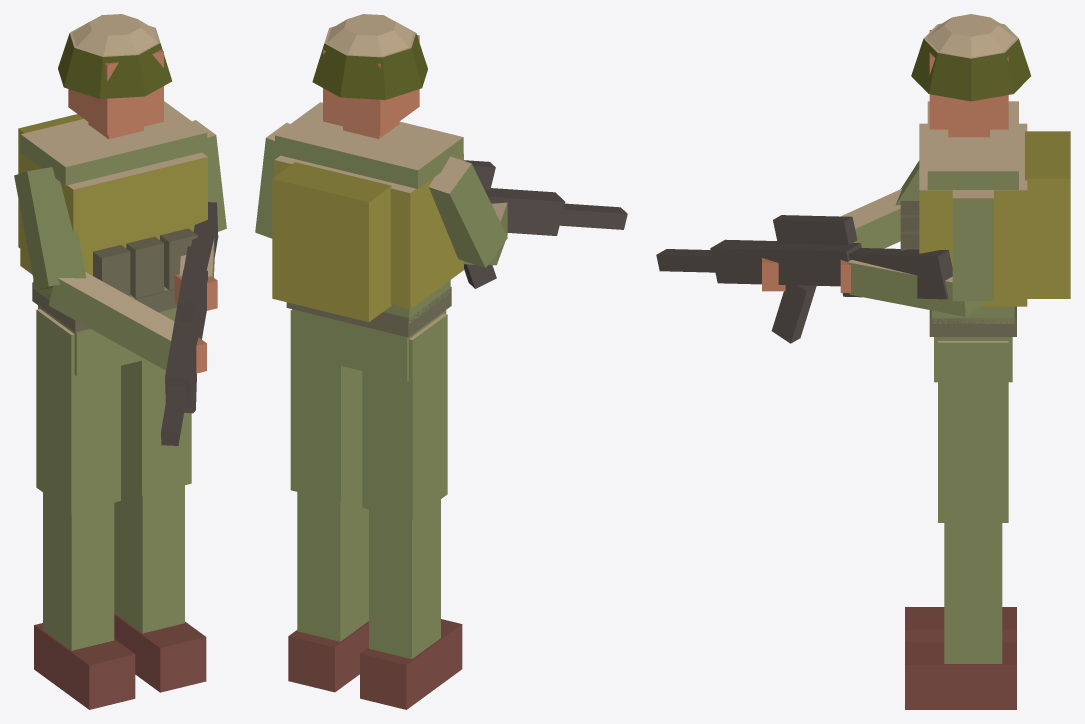
Rendered from SM_SoldadoArmado_v0_G36E_Reposo_LOD1.fbx.
The picture shows the model from 3 angles, left to right: view 1: azimuth 30°, elevation 25°; view 2: azimuth 150°, elevation 25°; view 3: azimuth 270°, elevation 25°; orthographic projection.
Parts seen in each view (by area): view 1: SM_bloques.soldado_armado_v0_LOD1; view 2: SM_bloques.soldado_armado_v0_LOD1; view 3: SM_bloques.soldado_armado_v0_LOD1.
Boxes of the visible parts, left/top/right/bottom form: SM_bloques.soldado_armado_v0_LOD1: left=14, top=14, right=226, bottom=709; SM_bloques.soldado_armado_v0_LOD1: left=255, top=14, right=627, bottom=709; SM_bloques.soldado_armado_v0_LOD1: left=656, top=14, right=1070, bottom=709.
Size of the model in its own units: 0.5846 by 1.75 by 0.9998.
